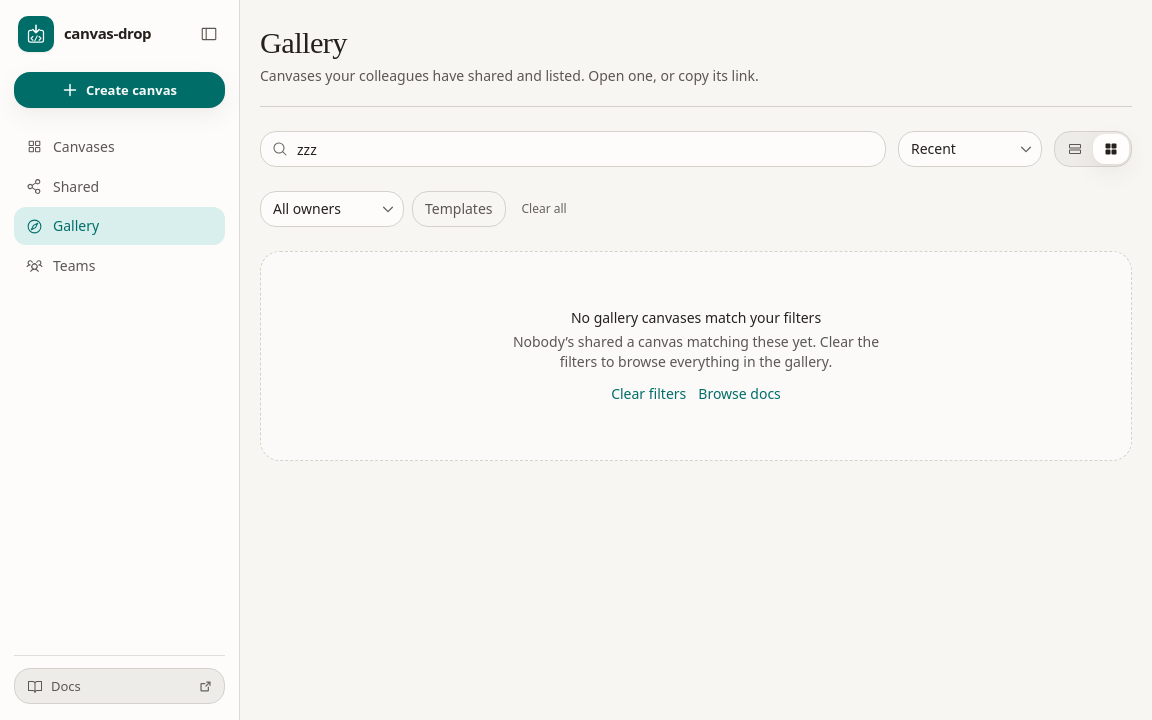
Gallery view › shows the no-results empty state when filtering, and Clear filters resets
The image size is (1152, 720).
Expected: the text "No gallery canvases match your filters" is shown, top-left (571, 308), bottom-right (821, 327)
Click the button "Clear filters" at (649,394), box top-left (611, 384), bottom-right (686, 404)
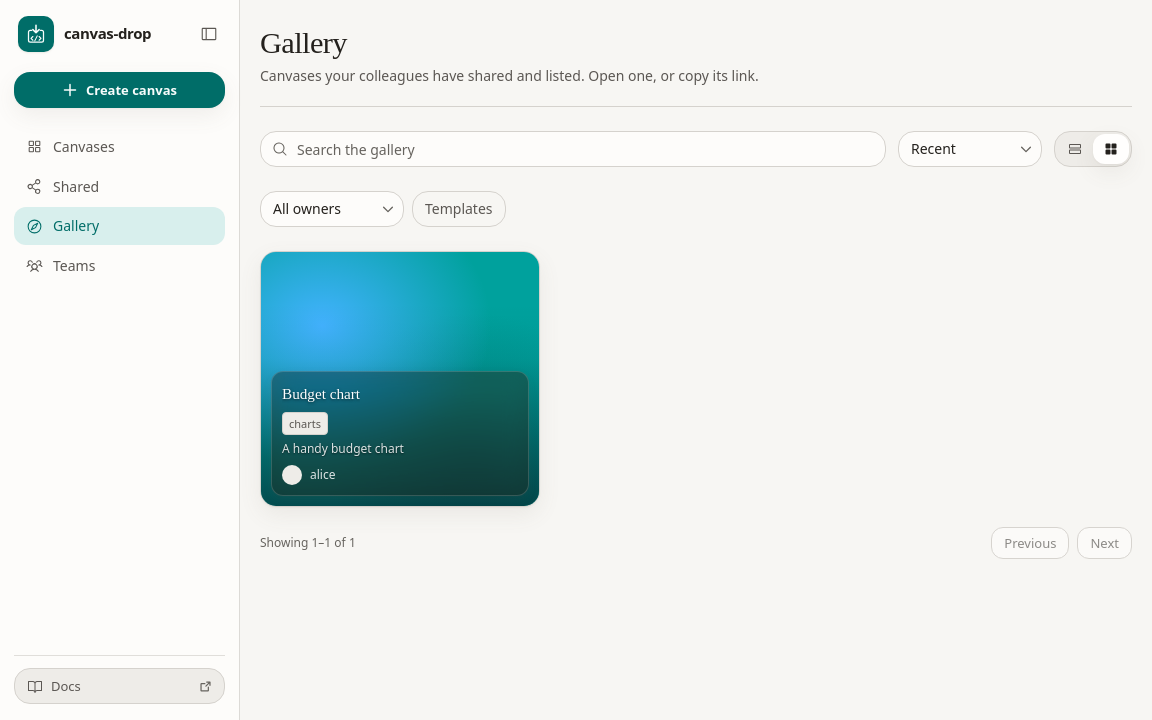
Expected: the link "Budget chart" is shown, top-left (282, 382), bottom-right (360, 406)
